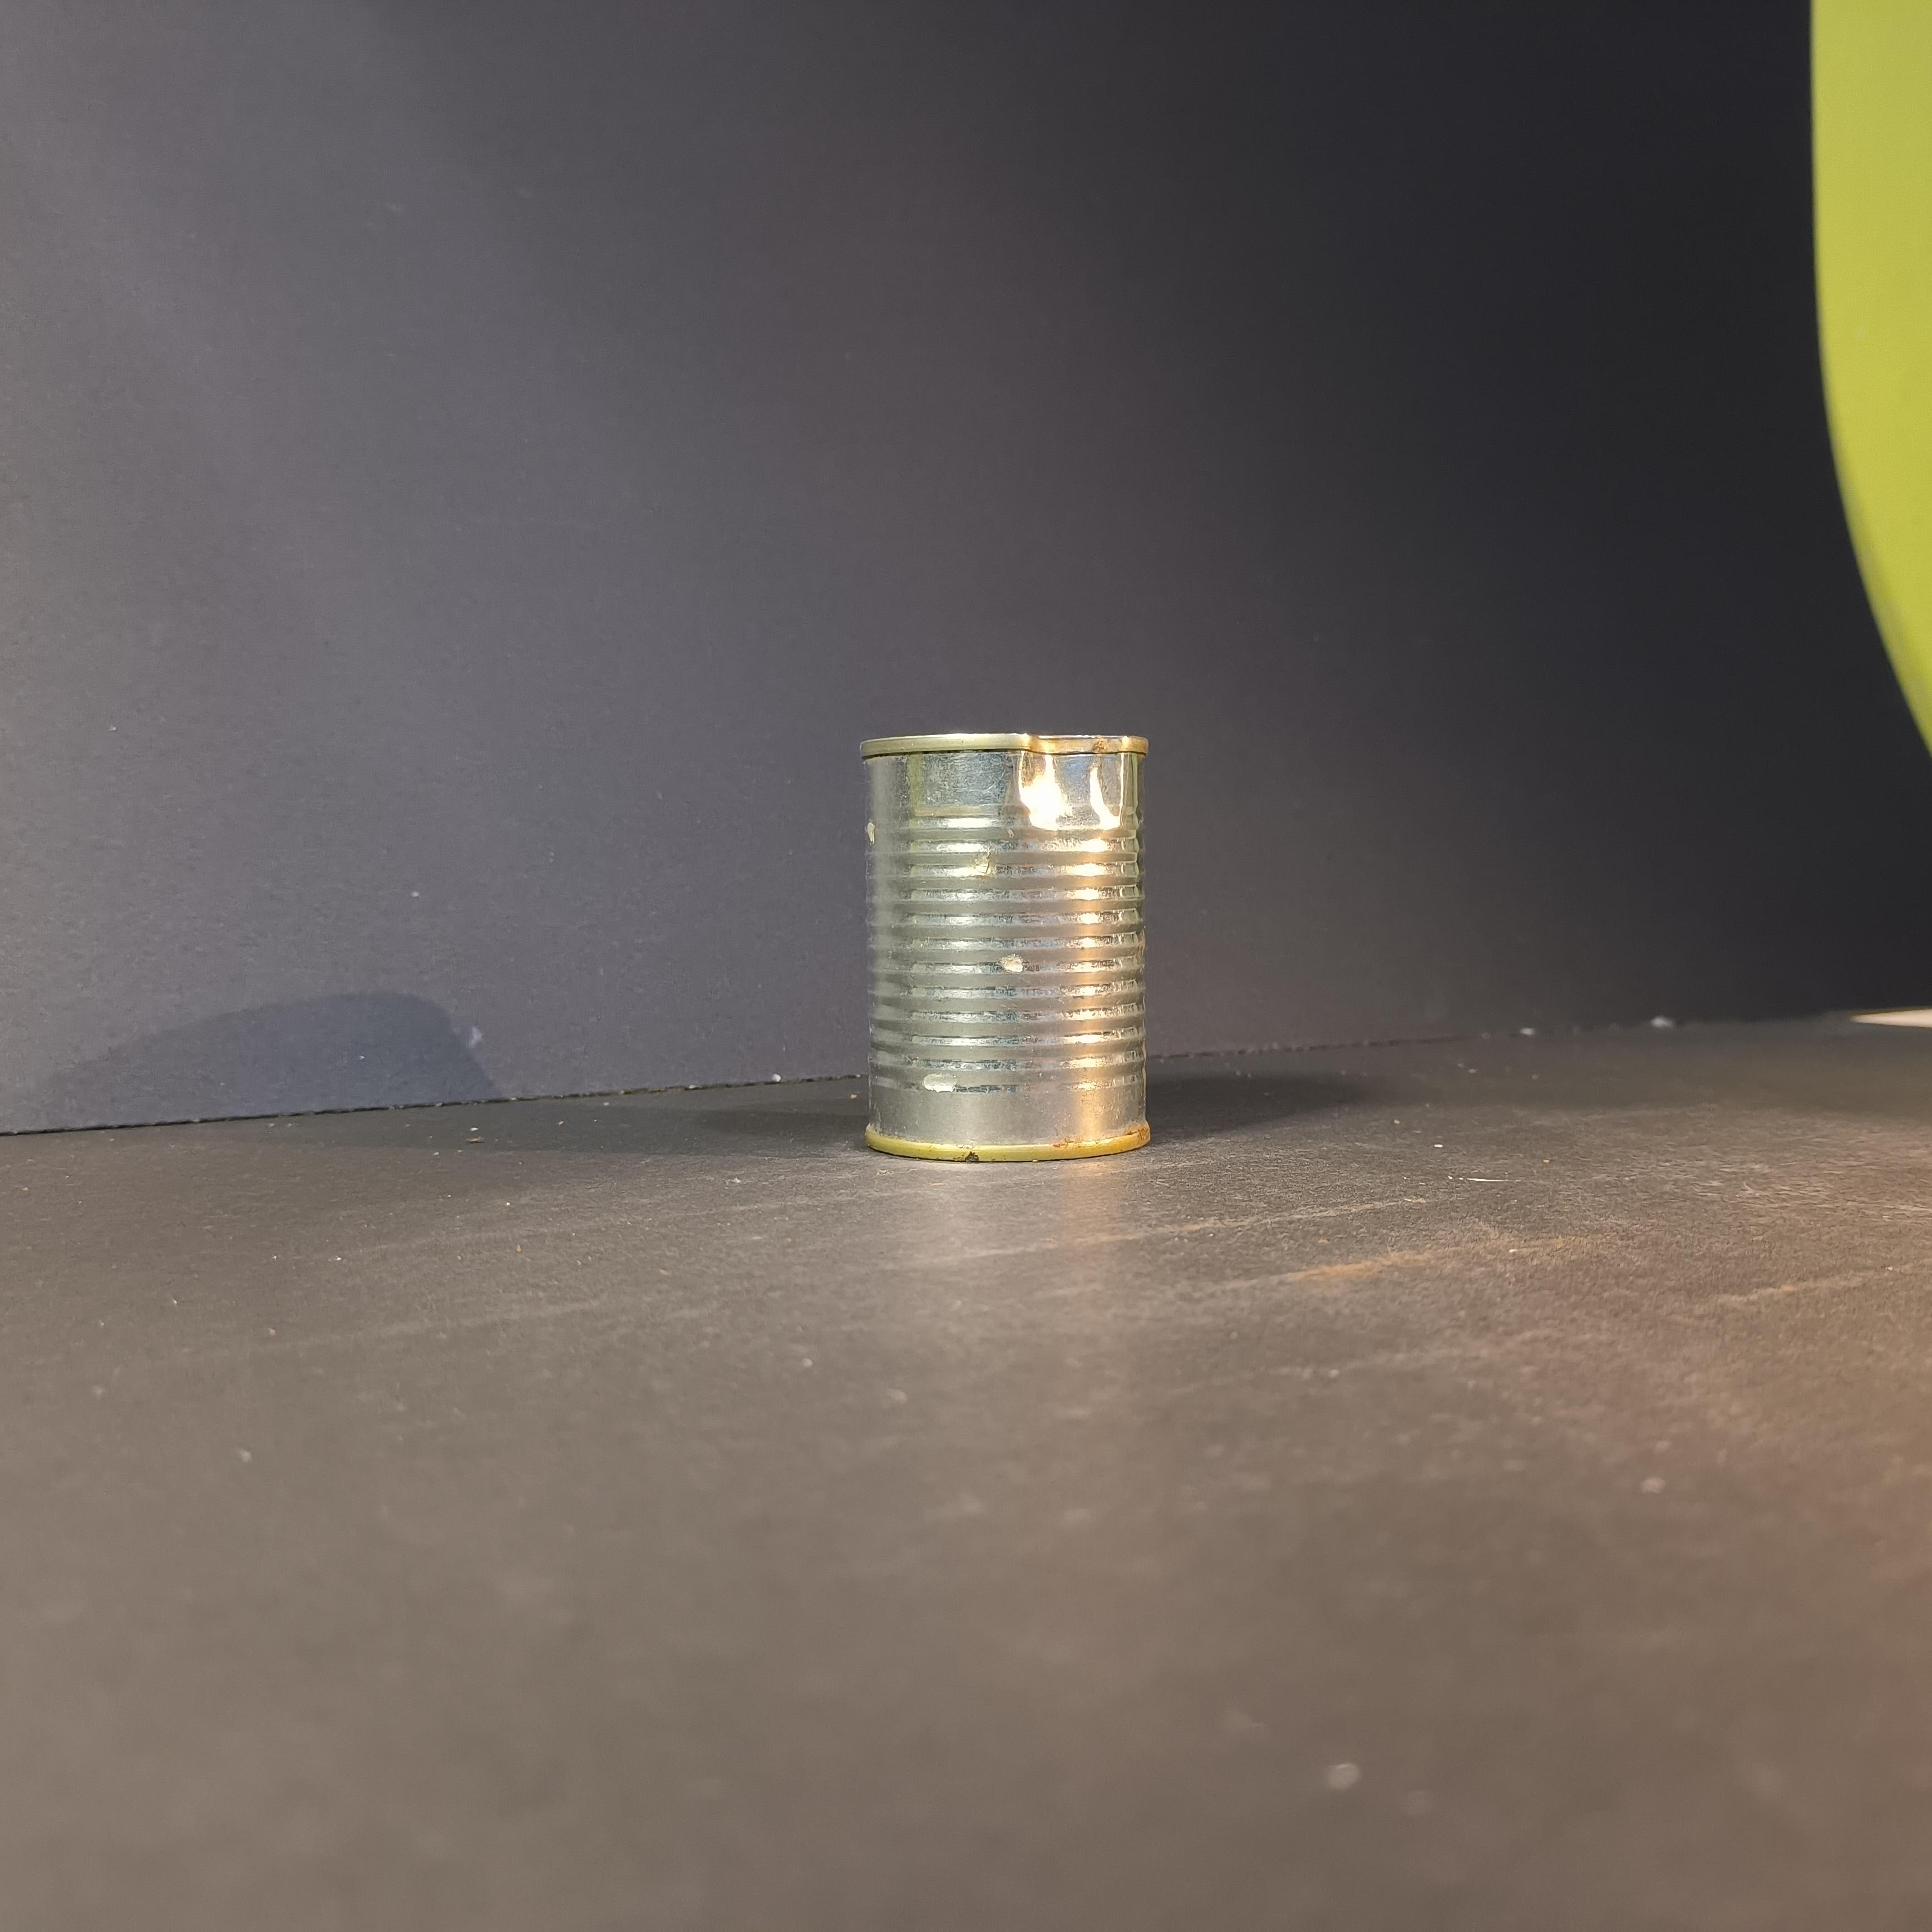Dented: (835, 699, 1180, 1182)
